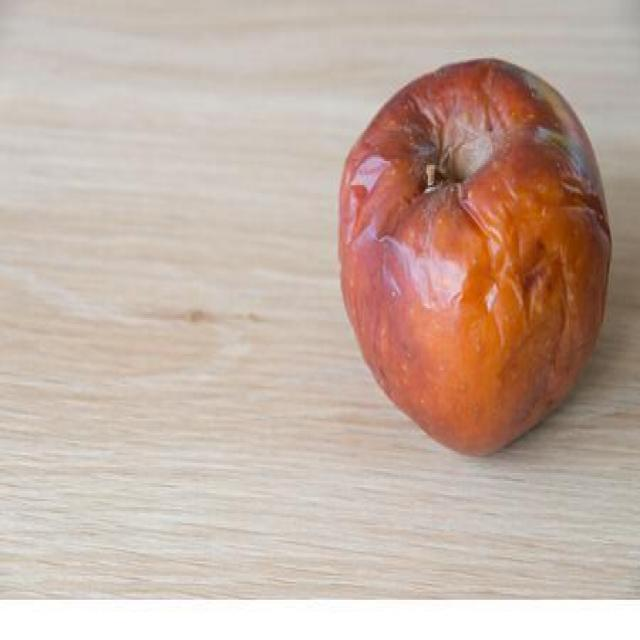Rotten: (341, 68, 600, 456)
